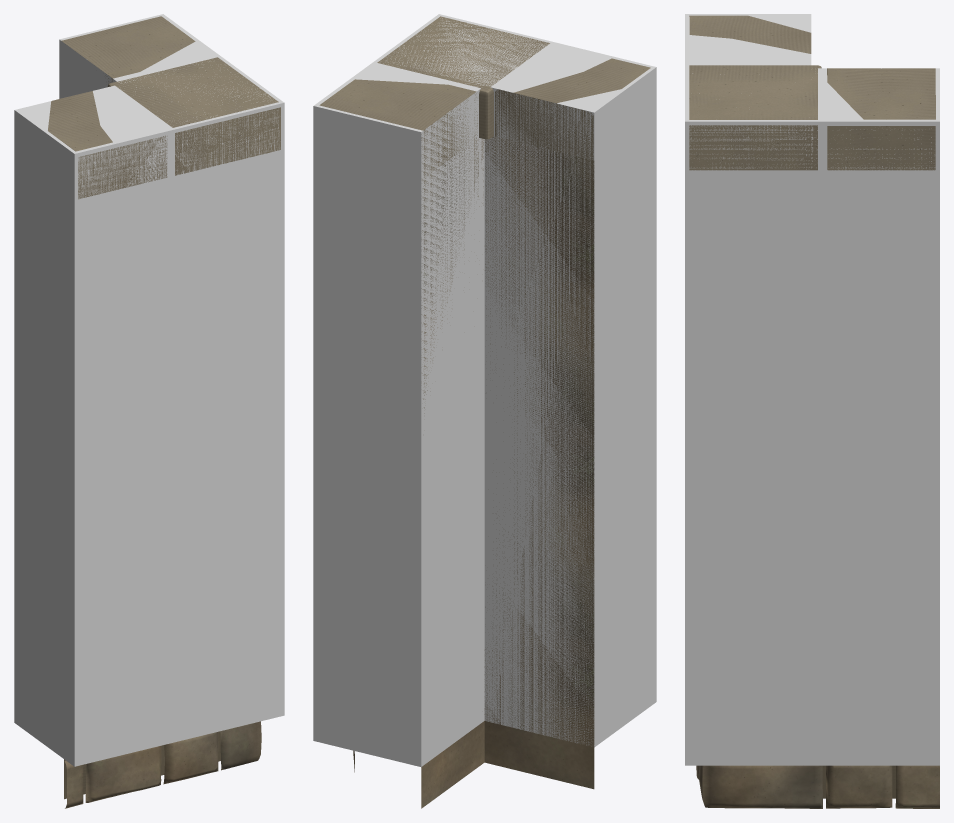
File: retaining_wall_corner.gltf
3 views of the same model, side by side, from view 1: azimuth 30°, elevation 25°; view 2: azimuth 150°, elevation 25°; view 3: azimuth 270°, elevation 25° (orthographic). The views are drawn at different scales.
Visible parts, largest first — view 1: retaining_wall_corner_col, retaining_wall_corner_LOD0; view 2: retaining_wall_corner_col, retaining_wall_corner_LOD0; view 3: retaining_wall_corner_col, retaining_wall_corner_LOD0.
Part boxes in pixels (box(x1,y1,x2,y2)): retaining_wall_corner_col: box(14, 14, 284, 766); retaining_wall_corner_LOD0: box(48, 16, 280, 808); retaining_wall_corner_col: box(313, 14, 656, 766); retaining_wall_corner_LOD0: box(319, 16, 650, 808); retaining_wall_corner_col: box(685, 14, 939, 765); retaining_wall_corner_LOD0: box(689, 15, 939, 808).
Size of what is drawn, in the model's own units: 1.09 by 3.29 by 1.09.
Materials: 3 (3 with a texture image).
